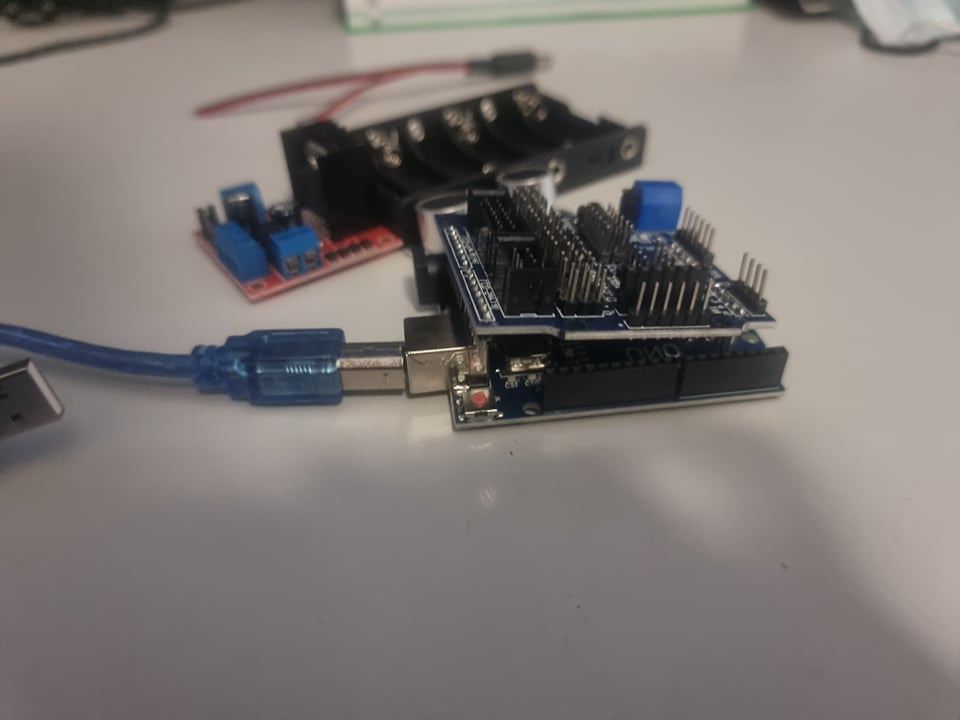5V EXPANSION: (441, 163, 780, 324)
BATTERY BOX: (372, 58, 657, 195)
MOTOR: (187, 109, 406, 303)
UNO R3: (389, 329, 789, 434)
